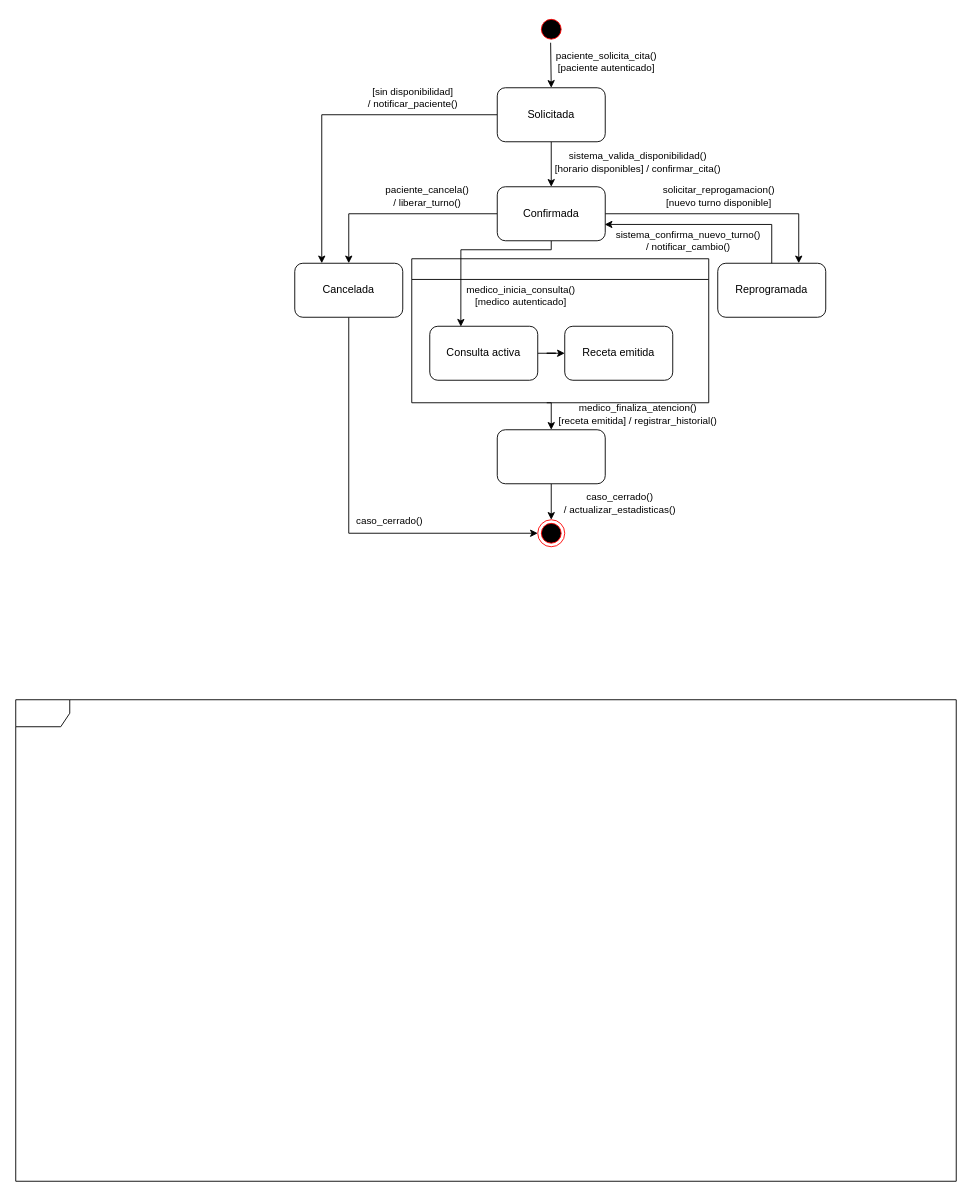
Some shapes in this 972 by 1197 pixel diagram are drawn without their labels. Each missing label, with the box of its shape:
Cita Medica: (15, 699, 956, 1181)
estado compuesto en atencion: (411, 258, 709, 403)
Realizada: (496, 429, 605, 484)
